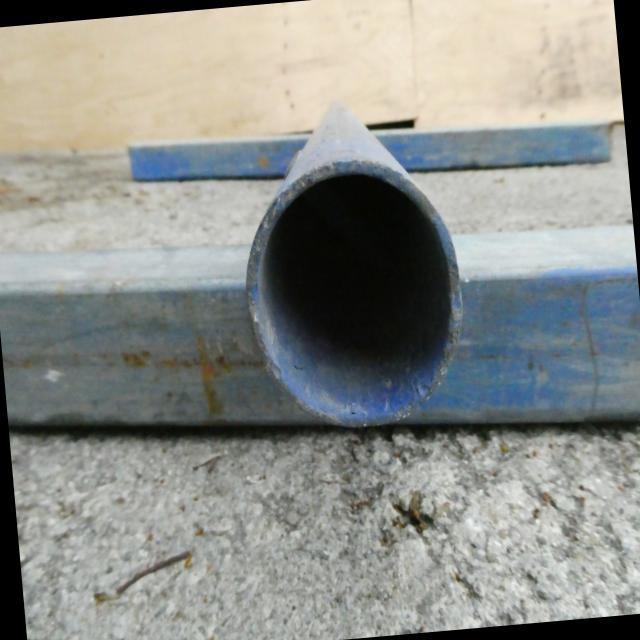pipe: (245, 165, 463, 425)
